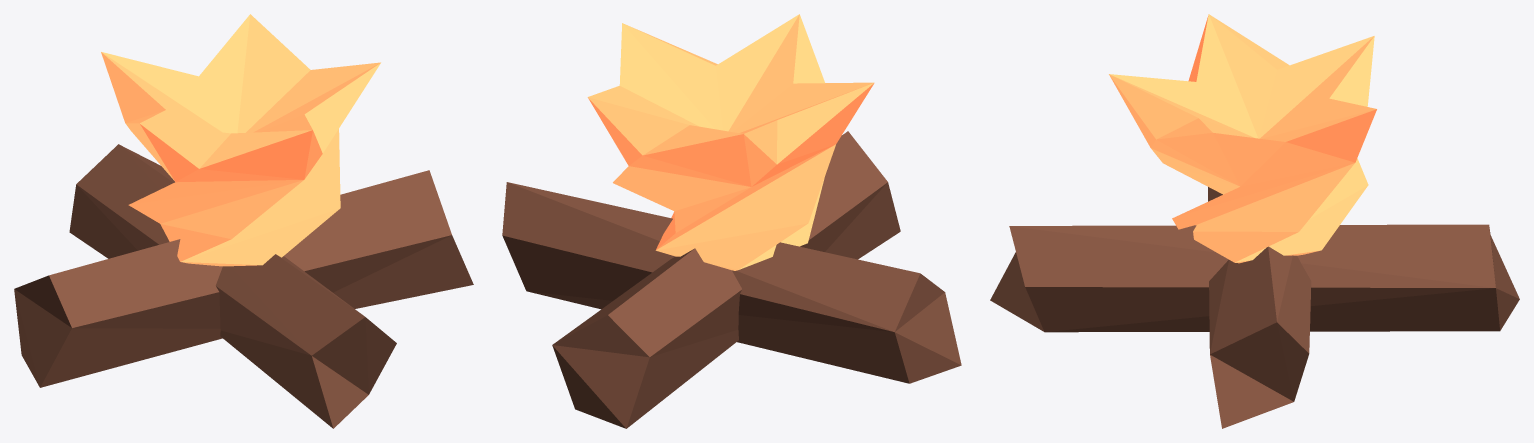
The model's file is campfire.fbx.
The picture shows the model from 3 angles, left to right: view 1: azimuth 30°, elevation 25°; view 2: azimuth 150°, elevation 25°; view 3: azimuth 270°, elevation 25°; orthographic projection. The views are drawn at different scales.
Visible parts, largest first — view 1: campfire; view 2: campfire; view 3: campfire.
Boxes of the visible parts, left/top/right/bottom form: campfire: left=14, top=14, right=473, bottom=428; campfire: left=502, top=14, right=961, bottom=428; campfire: left=990, top=14, right=1519, bottom=428.
Size of the model in its own units: 133 by 73.06 by 141.
